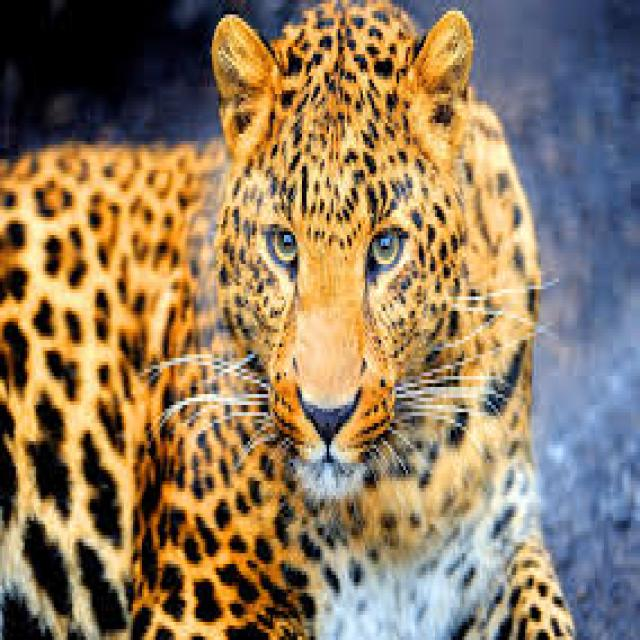Jaguar: (5, 18, 579, 640)
